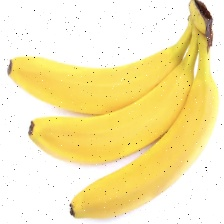banana: (41, 50, 224, 196)
